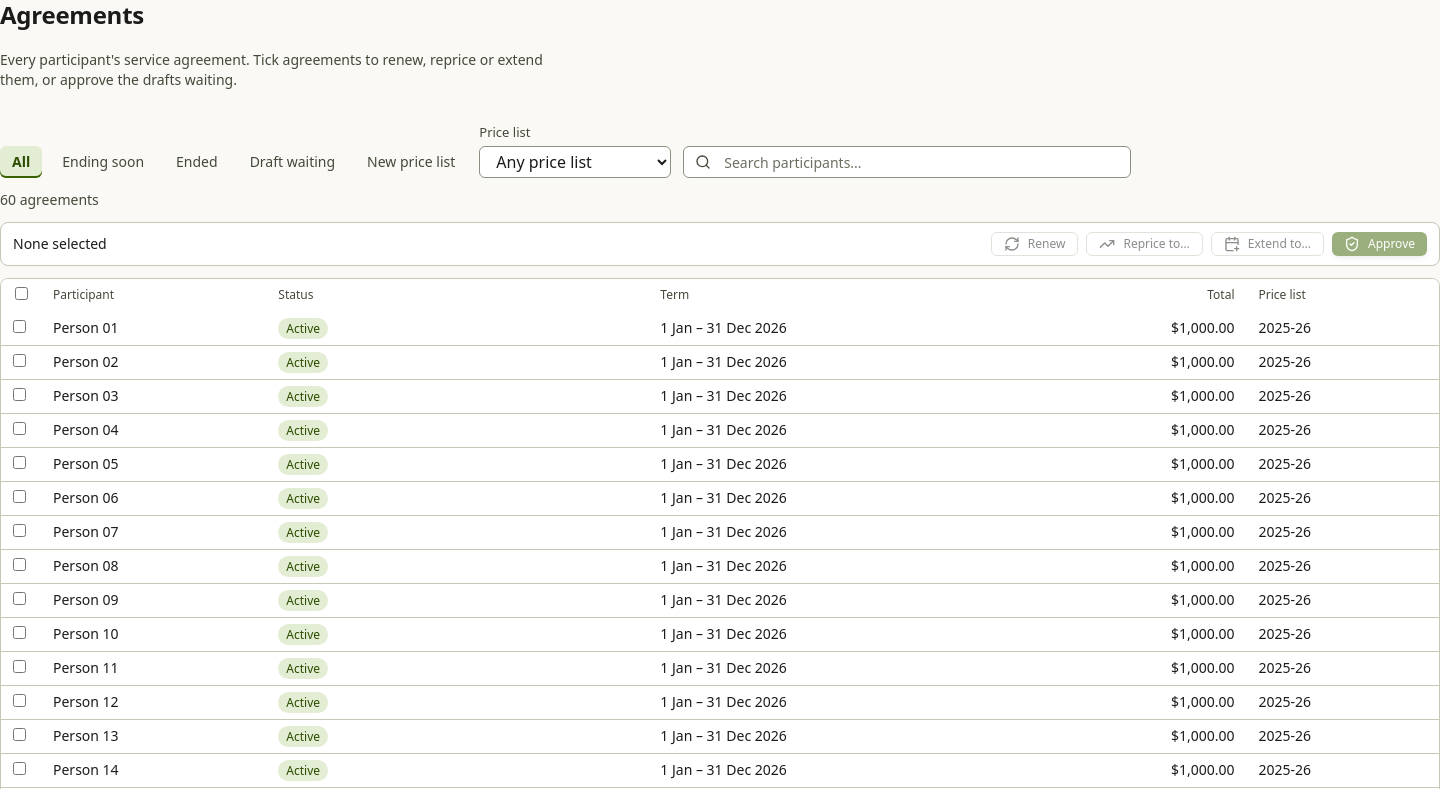
Test: AgreementsPage bulk actions (real hook) › renews 60 ticked agreements in three requests of 25, 25 and 10, then shows the review with 60 results
Expected: the text "Person 01" is shown, x1=53 y1=318 x2=119 y2=337
Click the checkbox named "Select all rows" at (21, 294), box x1=14 y1=287 x2=28 y2=300
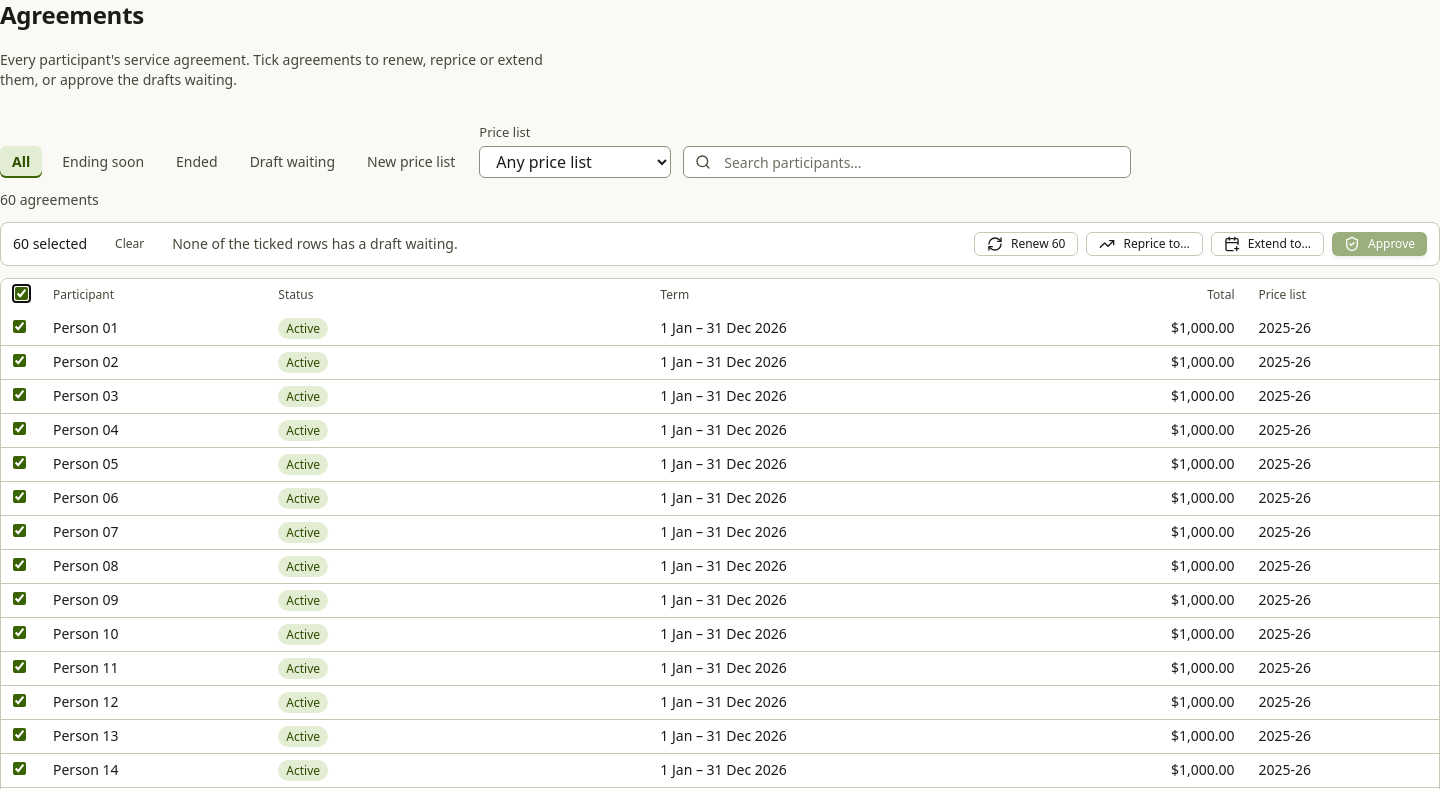
Click the button "Renew 60" at (1026, 244), box x1=974 y1=232 x2=1078 y2=256
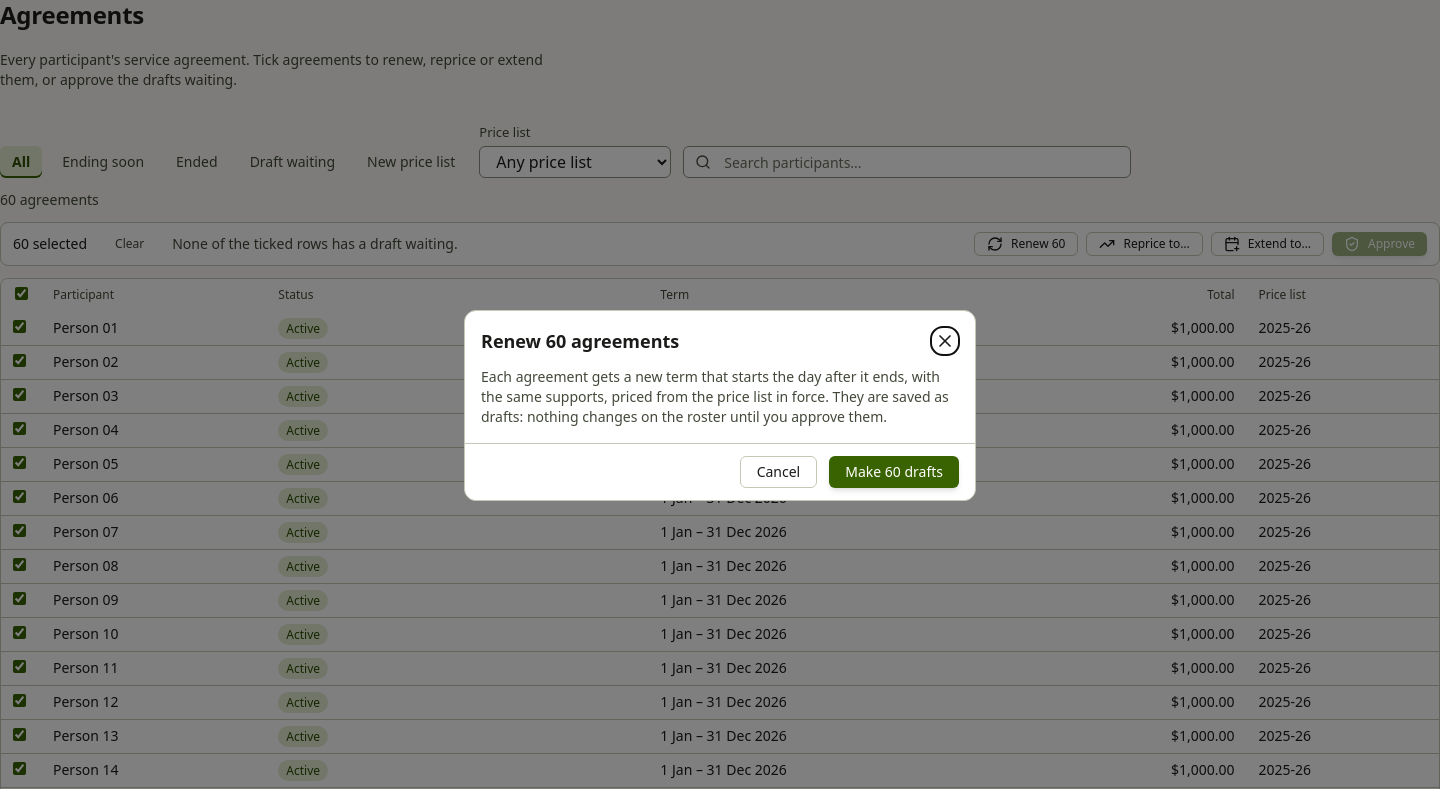
Click the button "Make 60 drafts" at (894, 472), box x1=829 y1=456 x2=959 y2=488
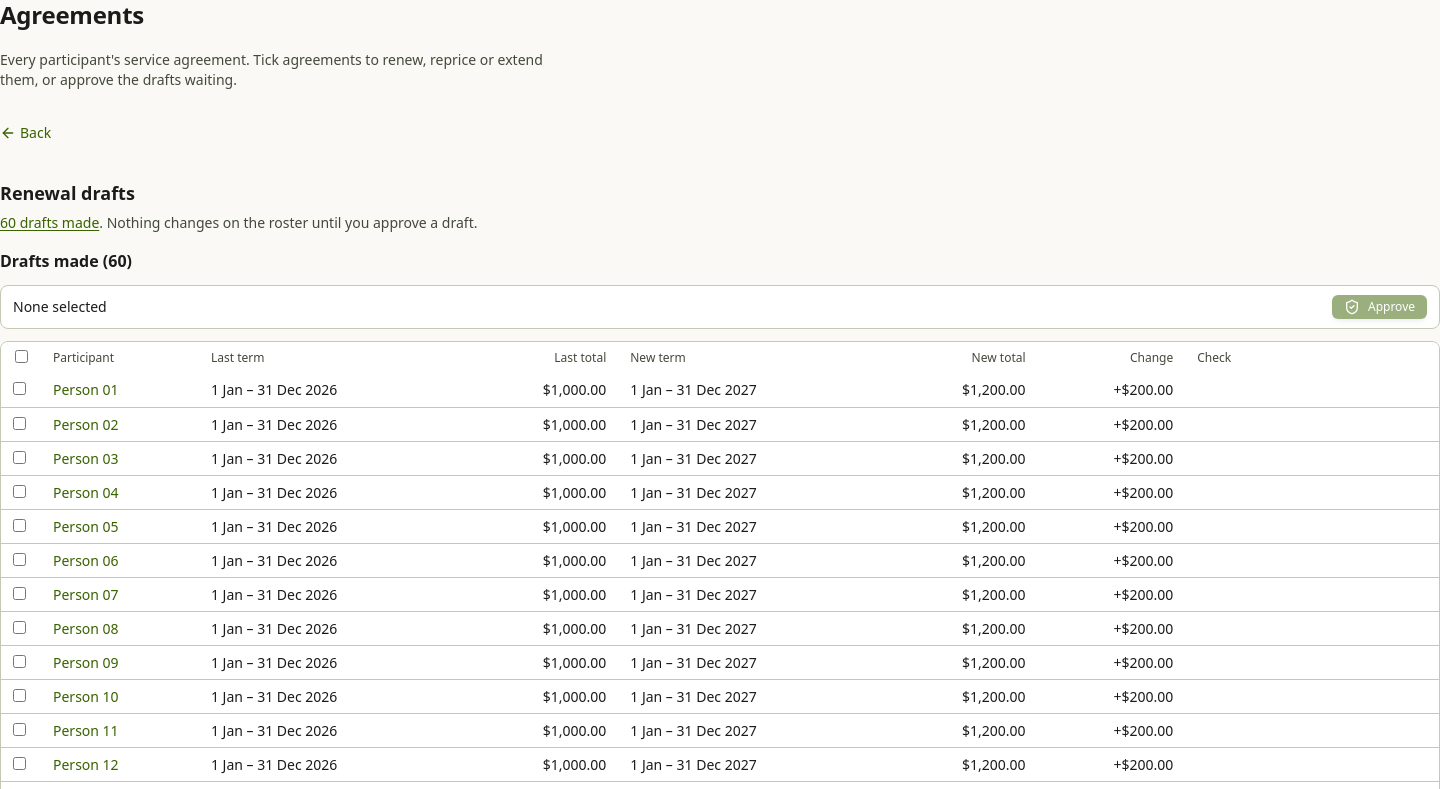
Expected: the heading "Renewal drafts" is shown, x1=0 y1=181 x2=135 y2=205
Expected: the heading "Drafts made (60)" is shown, x1=0 y1=250 x2=132 y2=272
Expected: the button "60 drafts made" is shown, x1=0 y1=213 x2=99 y2=233
